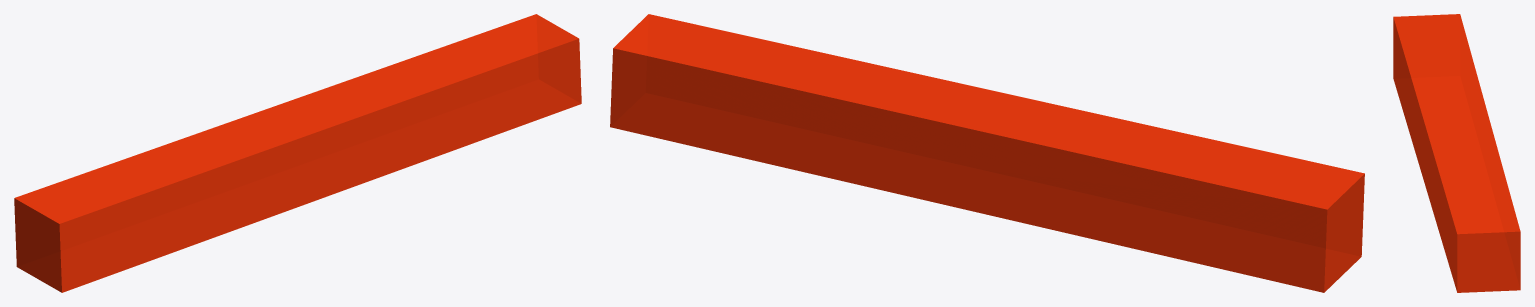
File: Event_420604493_EErechit_27.fbx
The picture shows the model from 3 angles, left to right: view 1: azimuth 30°, elevation 25°; view 2: azimuth 150°, elevation 25°; view 3: azimuth 270°, elevation 25°; orthographic projection. The views are drawn at different scales.
Visible parts, largest first — view 1: Model; view 2: Model; view 3: Model.
Part boxes in pixels (<box>): Model: <box>14,14,581,292</box>; Model: <box>610,14,1364,292</box>; Model: <box>1393,14,1520,292</box>.
Bounding box in the file's own units: 0.6514 × 0.1021 × 0.145.
